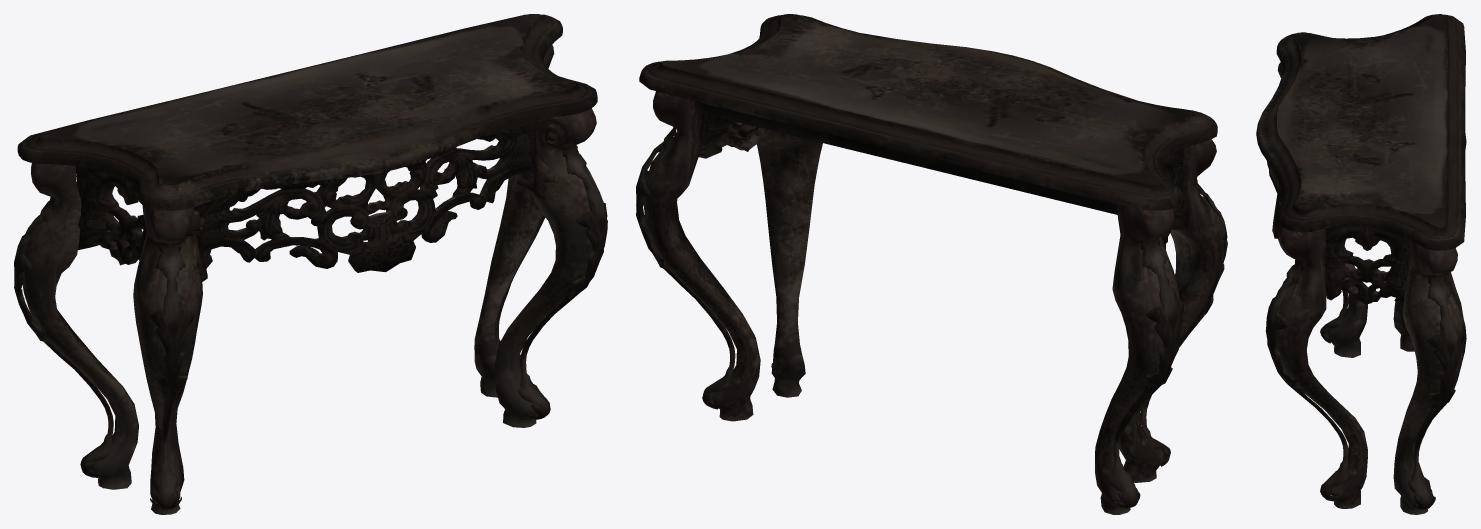
The model's file is ClassicConsole_01.glb.
3 renders of one model, left to right at view 1: azimuth 30°, elevation 25°; view 2: azimuth 150°, elevation 25°; view 3: azimuth 270°, elevation 25°, orthographic. The views are drawn at different scales.
Parts seen in each view (by area): view 1: ClassicConsole_01; view 2: ClassicConsole_01; view 3: ClassicConsole_01.
Boxes of the visible parts, box(x1,y1,x2,y2) form: ClassicConsole_01: box(14, 14, 607, 514); ClassicConsole_01: box(636, 14, 1227, 514); ClassicConsole_01: box(1256, 14, 1466, 514).
Bounding box in the file's own units: 1.54 × 0.9491 × 0.5893.
Materials: 1 (1 with a texture image).
